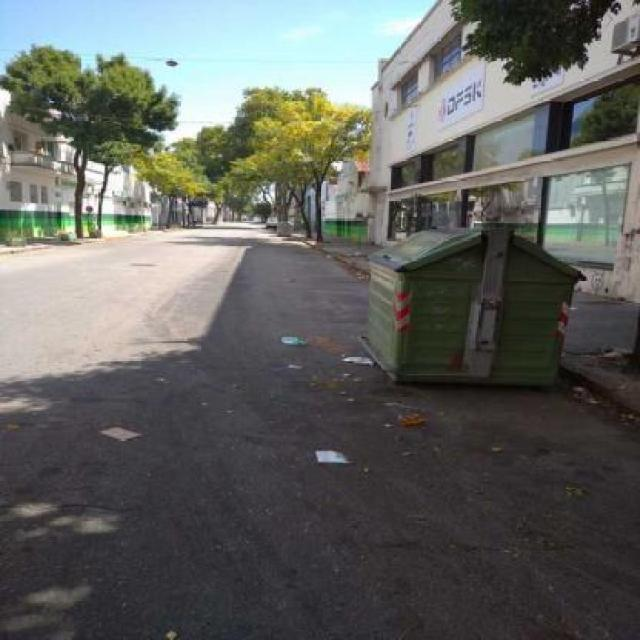garbage: (273, 328, 383, 381), (306, 439, 358, 473), (99, 412, 146, 446), (597, 341, 636, 366), (386, 412, 424, 426)
